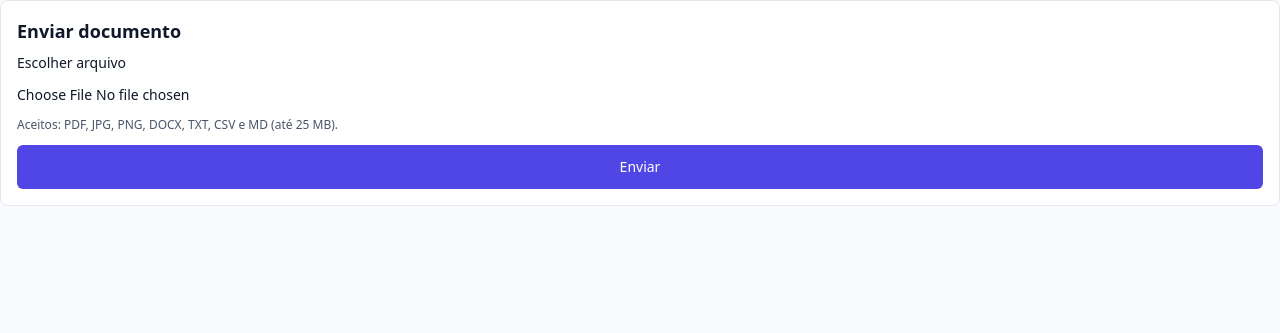
Test: UploadForm › cancelar descarta o aviso sem enviar
The image size is (1280, 333).
Earlier steps of the test are not shown.
Submit the form, box [17,53,1263,189]
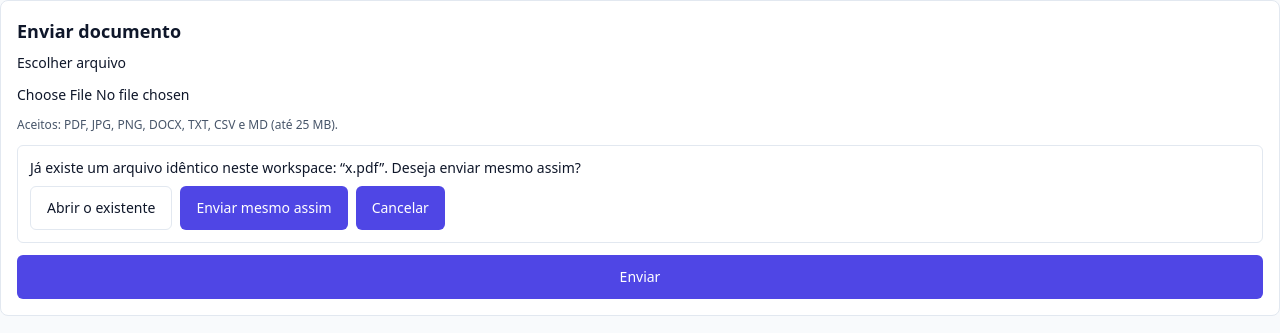
Click the button "Cancelar" at (400, 208), box [356,186,445,230]
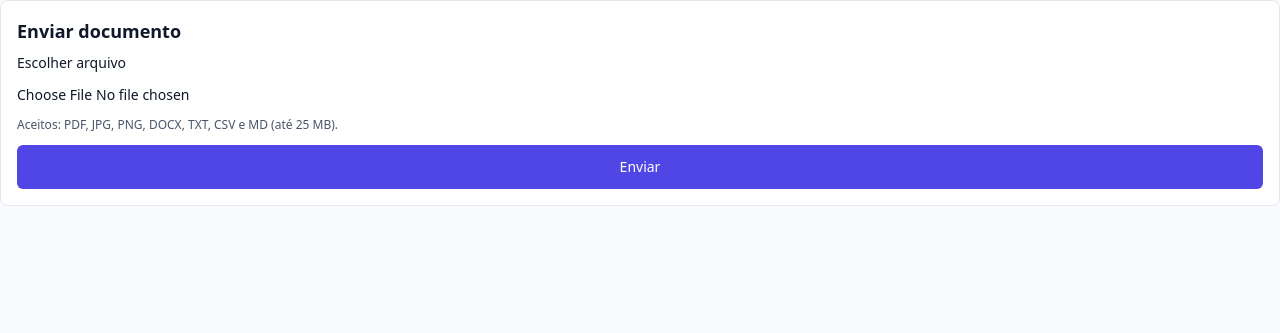
Check: the message is gone
